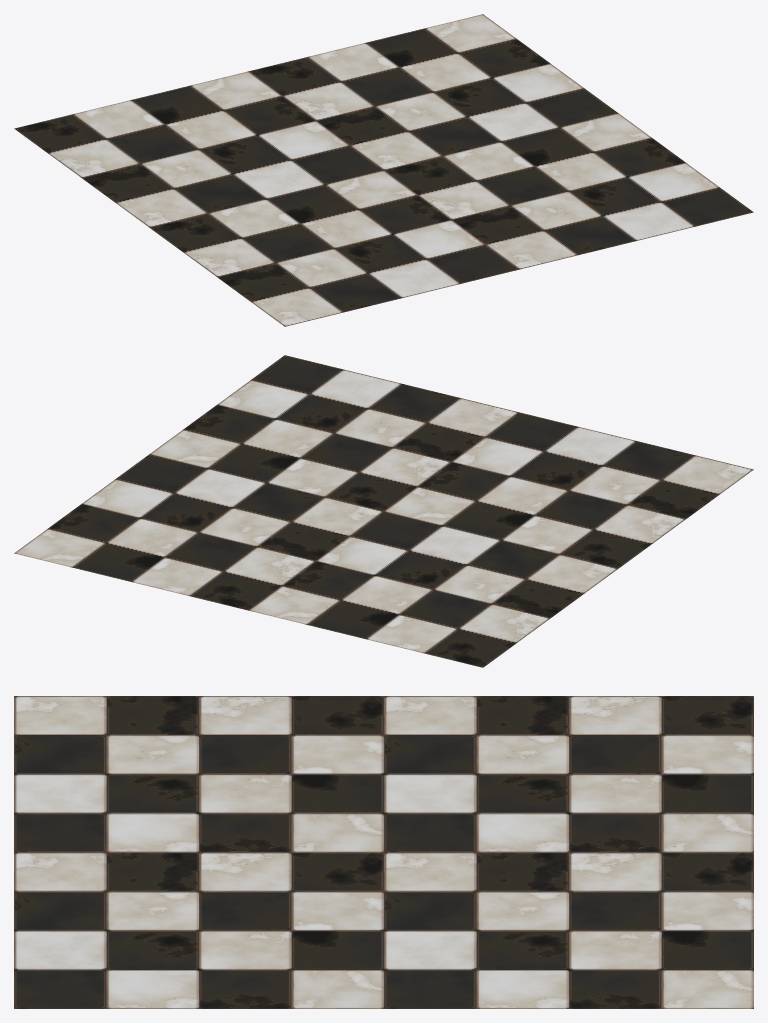
Rendered from secret.gltf.
3 views of the same model, one above another, from view 1: azimuth 30°, elevation 25°; view 2: azimuth 150°, elevation 25°; view 3: azimuth 270°, elevation 25° (orthographic). The views are drawn at different scales.
Parts seen in each view (by area): view 1: checkerboard; view 2: checkerboard; view 3: checkerboard.
Boxes of the visible parts, <box> form: checkerboard: <box>14,14,753,326</box>; checkerboard: <box>14,355,753,667</box>; checkerboard: <box>14,696,753,1008</box>.
Bounding box in the file's own units: 10 × 0 × 10.
Materials: 1 (1 with a texture image).
